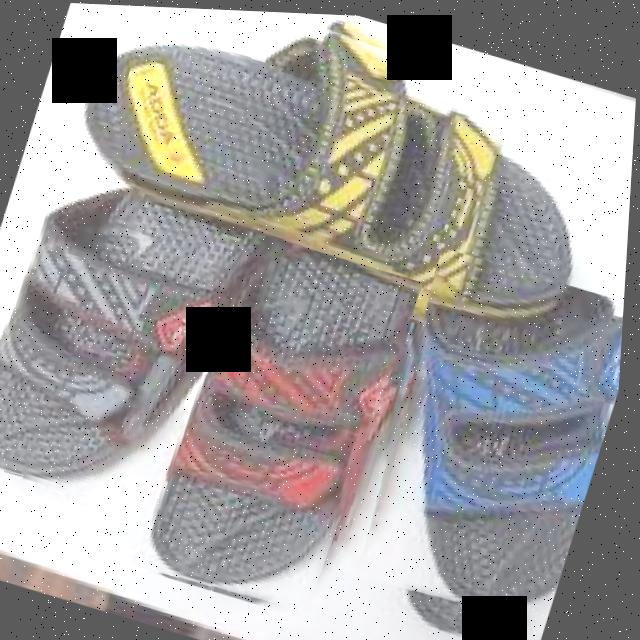shoe: (0, 0, 640, 640), (53, 2, 639, 339), (147, 225, 428, 620), (345, 240, 629, 628), (0, 153, 261, 518)
